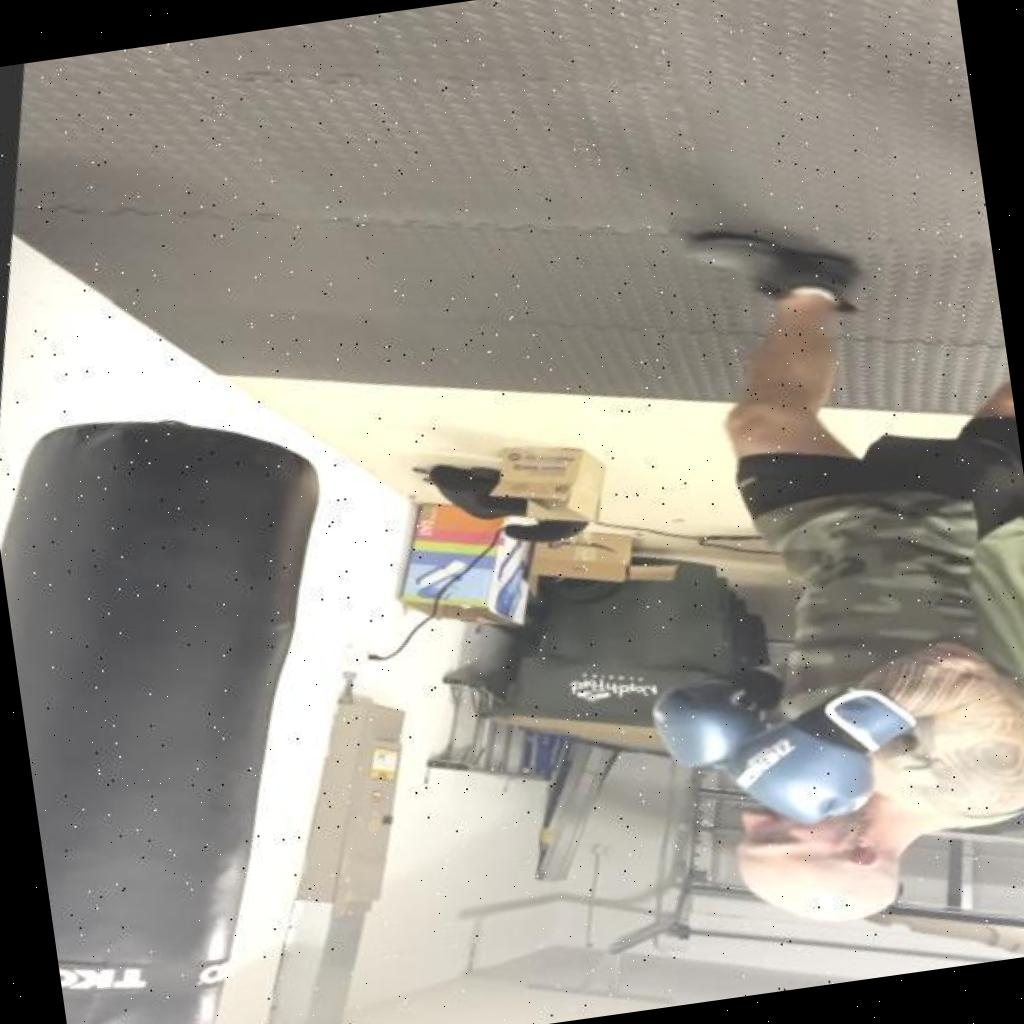bag: (0, 358, 393, 1024)
no punch: (575, 558, 1024, 1001)
